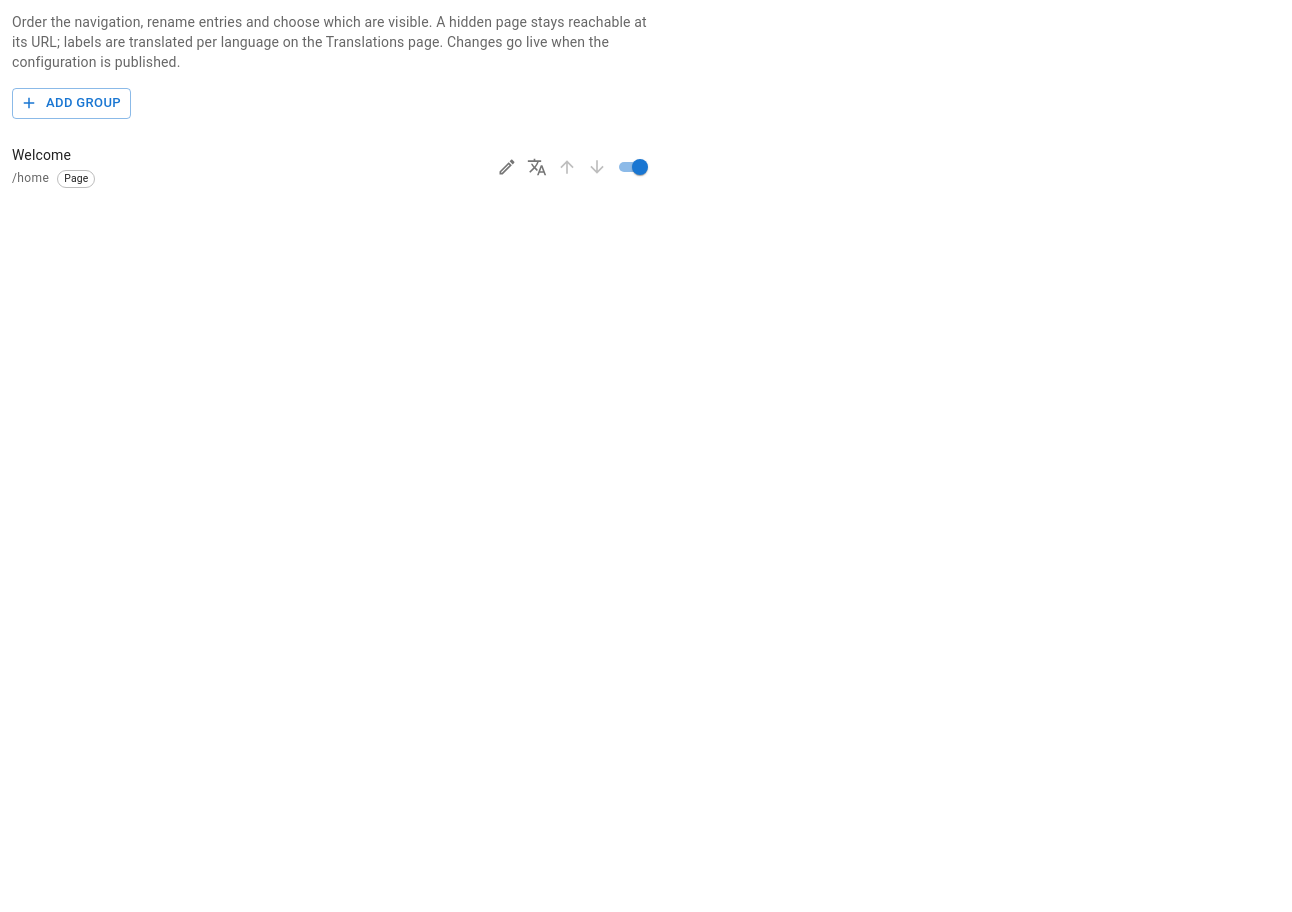
Test case: MenuEditor › clears a custom label when the rename field is emptied
Expected: the text "Welcome" is shown, [12,145,71,165]
Click the button named "rename" at [507, 167], box [492,152,522,182]
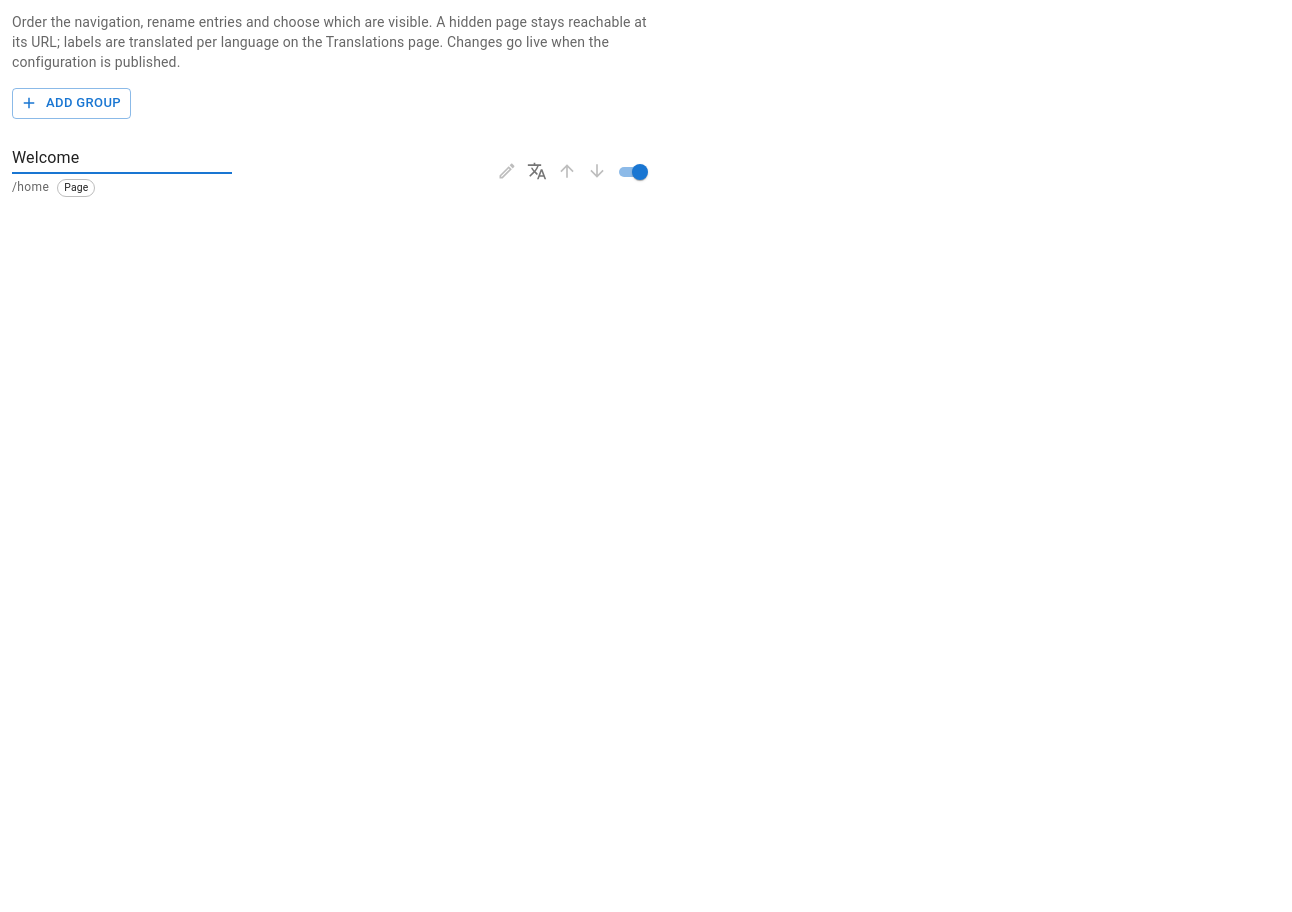
Clear the field named "rename" at [122, 159], box [12,145,232,174]
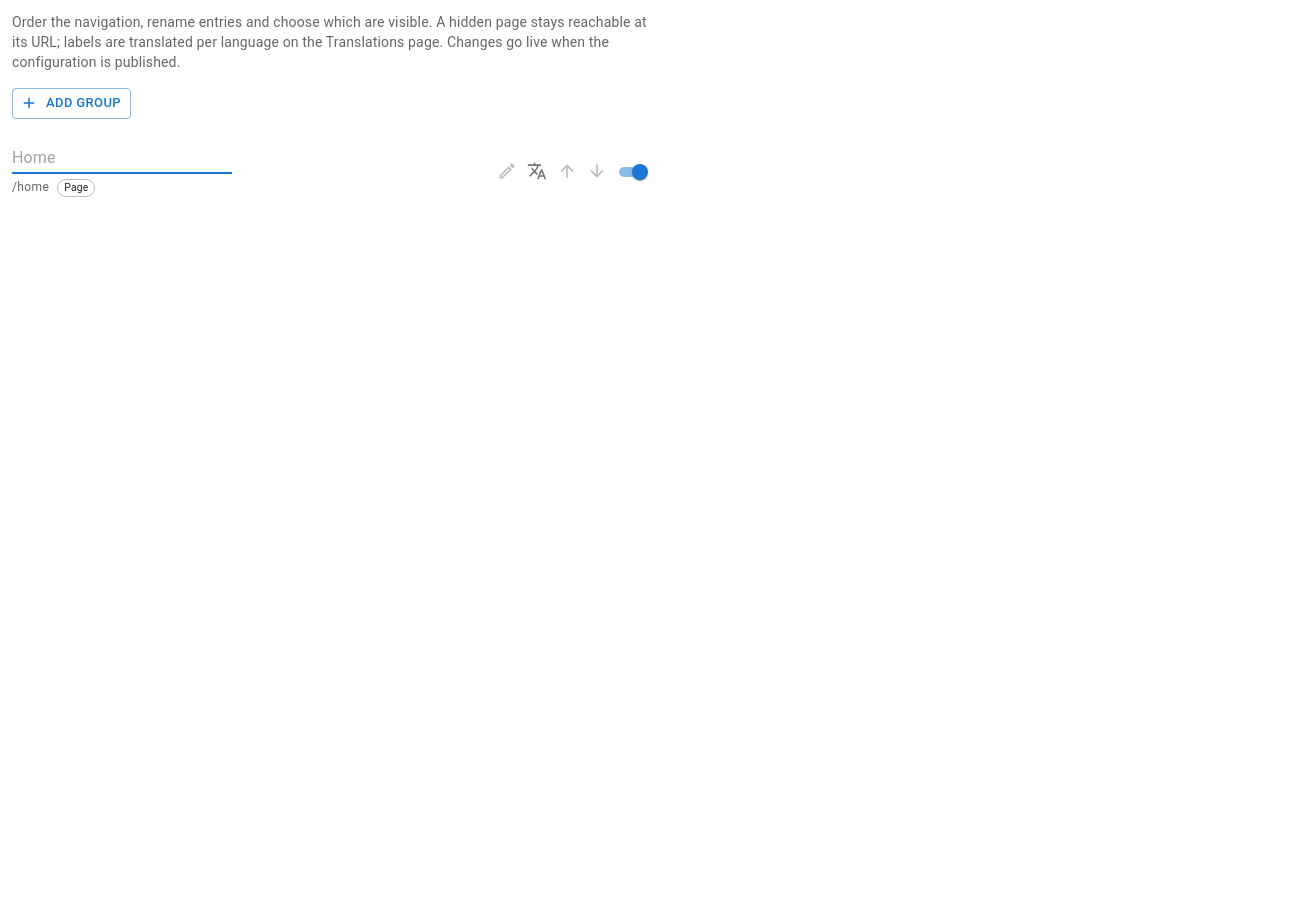
Press Enter in the field named "rename", box [12,145,232,174]
Wait 850 ms
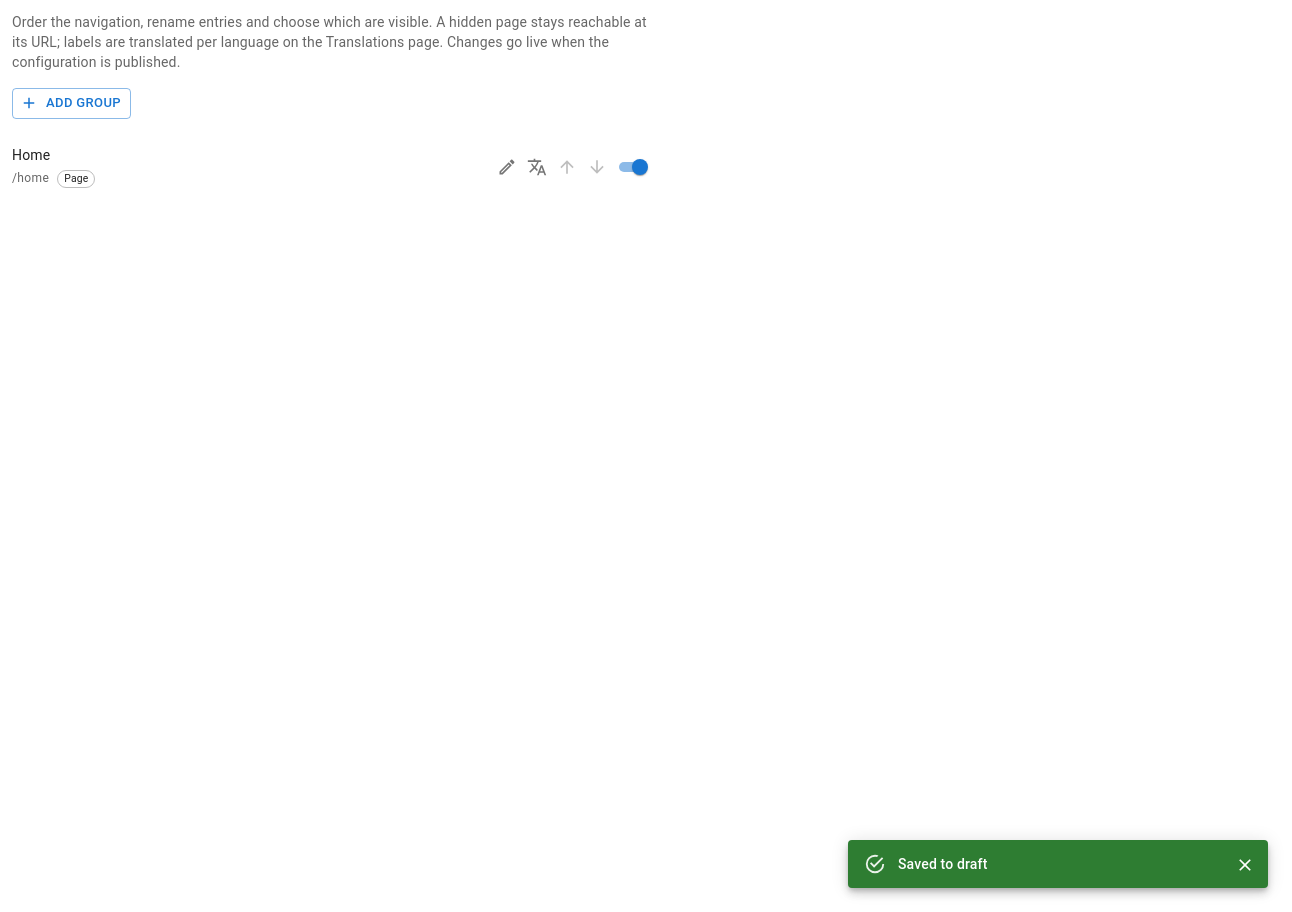
Expected: the text "Home" is shown, [12,145,50,165]
